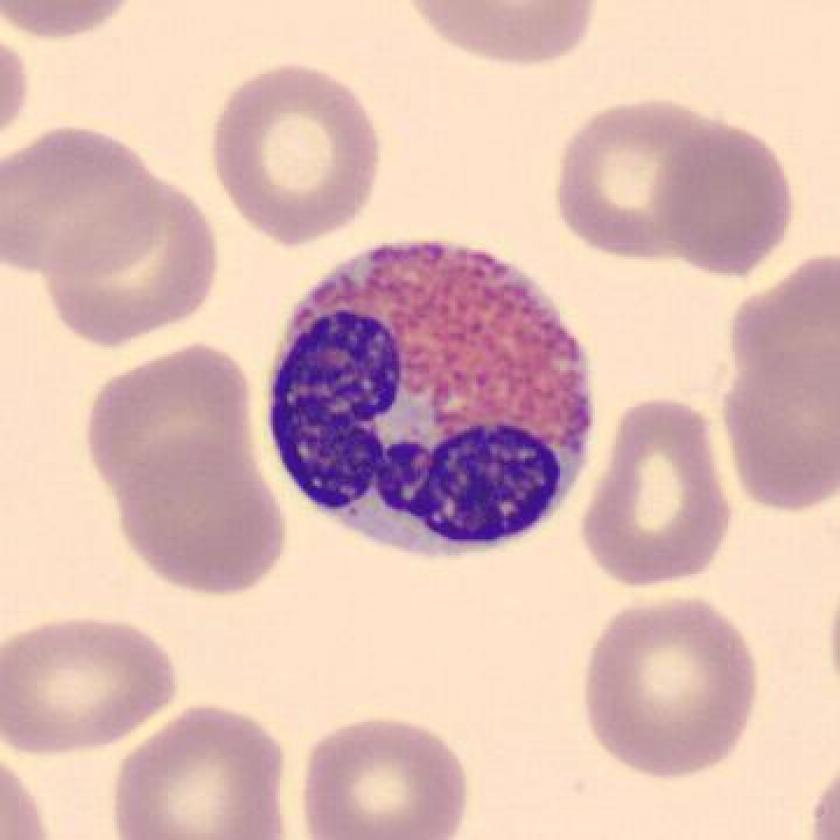eosinophil: (253, 221, 603, 579)
